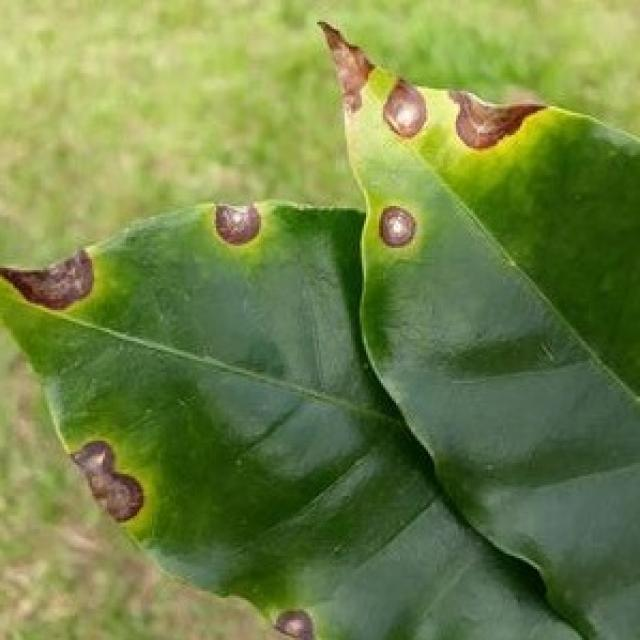Enfermedad-Mancha-de-hierro: (0, 24, 640, 640)
